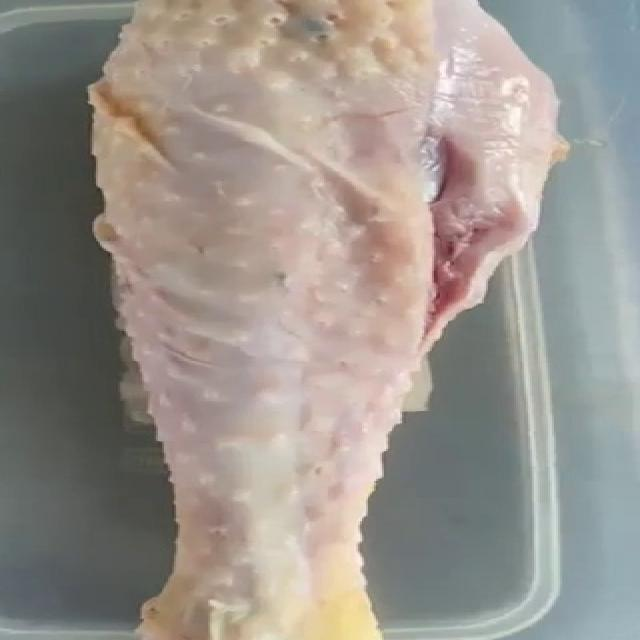chicken: (88, 0, 556, 640)
